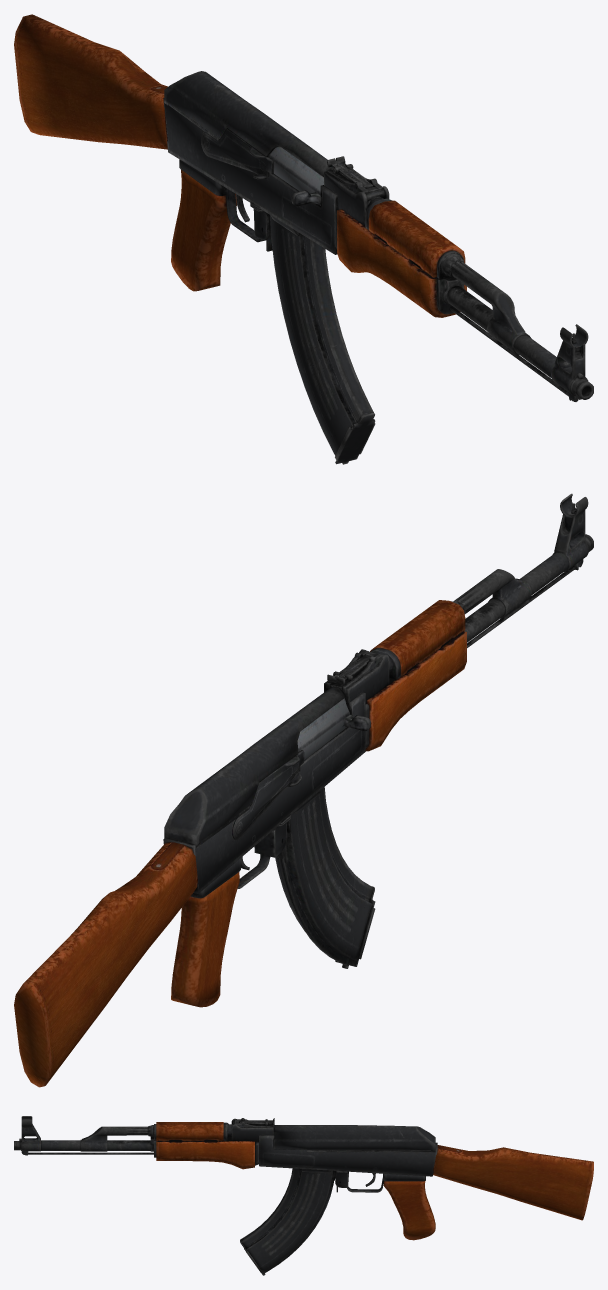
The model's file is Rifle_AK47.fbx.
The picture shows the model from 3 angles, top to bottom: view 1: azimuth 30°, elevation 25°; view 2: azimuth 150°, elevation 25°; view 3: azimuth 270°, elevation 25°; orthographic projection. The views are drawn at different scales.
Visible parts, largest first — view 1: GunMesh; view 2: GunMesh; view 3: GunMesh.
Part boxes in pixels (x1=…): GunMesh: x1=14, y1=14, x2=593, y2=464; GunMesh: x1=14, y1=493, x2=593, y2=1087; GunMesh: x1=14, y1=1116, x2=593, y2=1275.
Size of the model in its own units: 0.0508 by 0.2631 by 0.88.
Materials: 1 (1 with a texture image).
